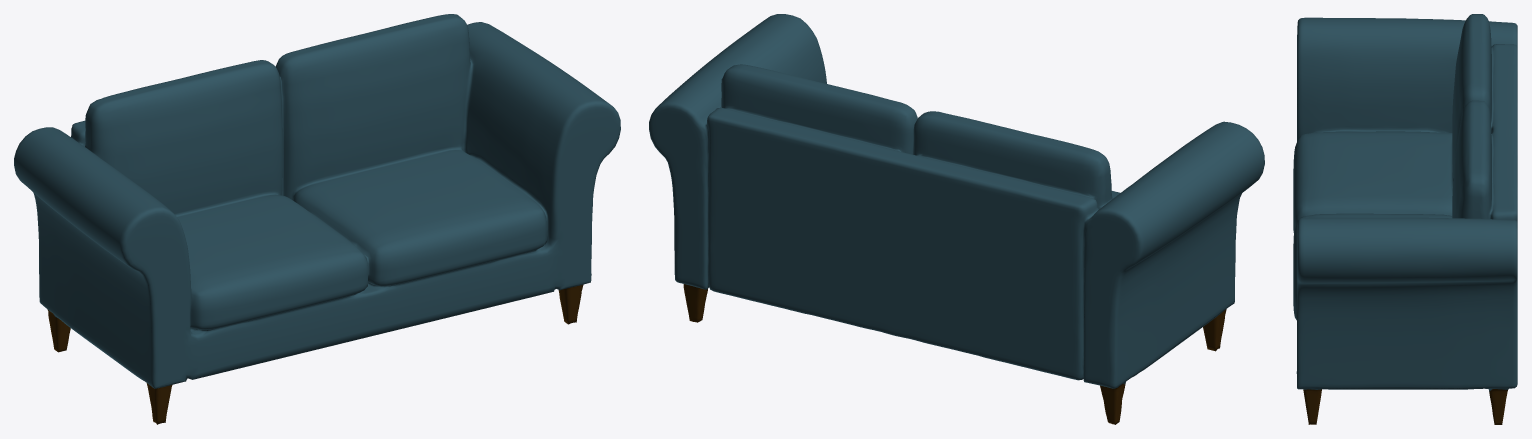
The model's file is sofa_teal.glb.
The picture shows the model from 3 angles, left to right: view 1: azimuth 30°, elevation 25°; view 2: azimuth 150°, elevation 25°; view 3: azimuth 270°, elevation 25°; orthographic projection. The views are drawn at different scales.
Parts seen in each view (by area): view 1: model_Material.001_0.001; view 2: model_Material.001_0.001; view 3: model_Material.001_0.001.
Part boxes in pixels (bbox=[...]): model_Material.001_0.001: bbox=[14, 14, 620, 424]; model_Material.001_0.001: bbox=[649, 14, 1264, 424]; model_Material.001_0.001: bbox=[1293, 14, 1517, 424].
Size of the model in its own units: 1.9 by 0.9106 by 0.7886.
